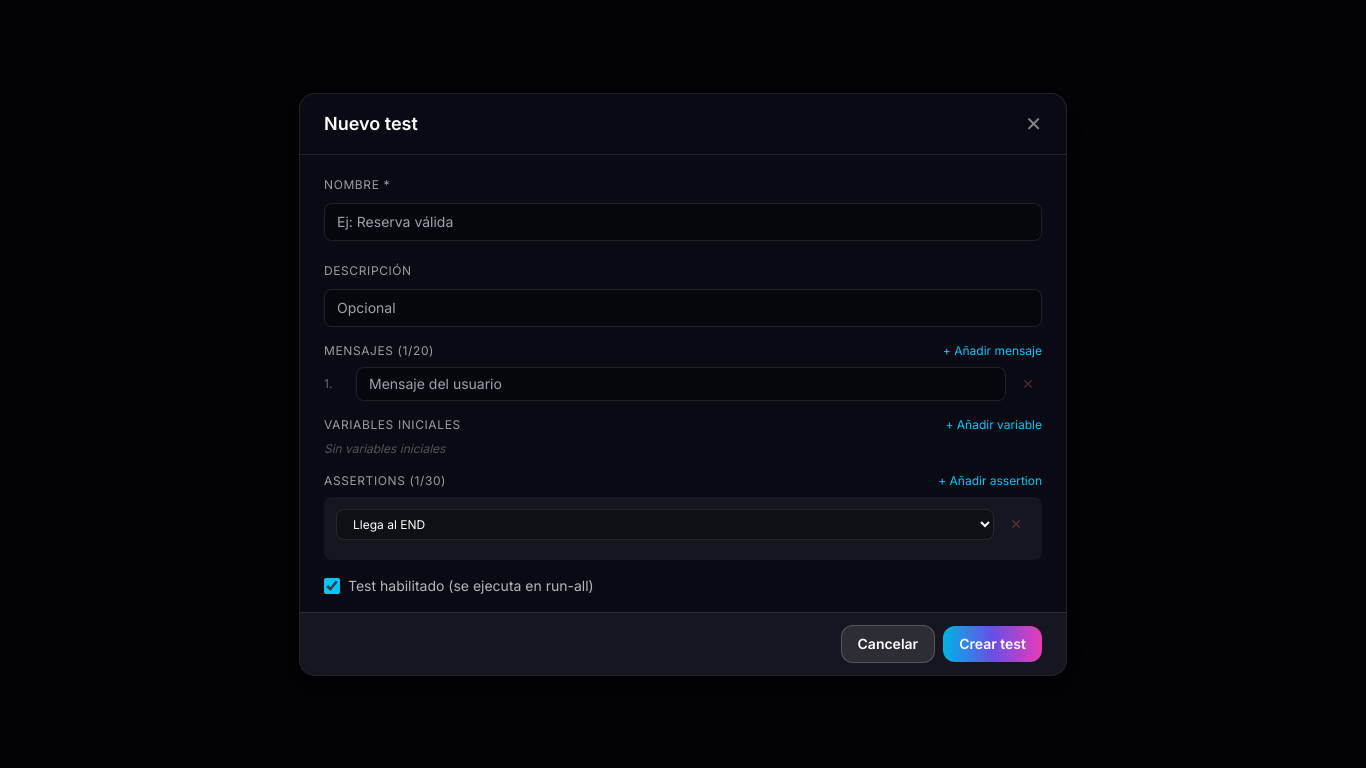
TestEditor › Añadir assertions › añade una assertion al pulsar "+ Añadir assertion"
The image size is (1366, 768).
expect the number of dropdowns is 1: met, box [336, 508, 994, 540]
Click the button "+ Añadir assertion": {"x": 990, "y": 480} [938, 472, 1042, 488]
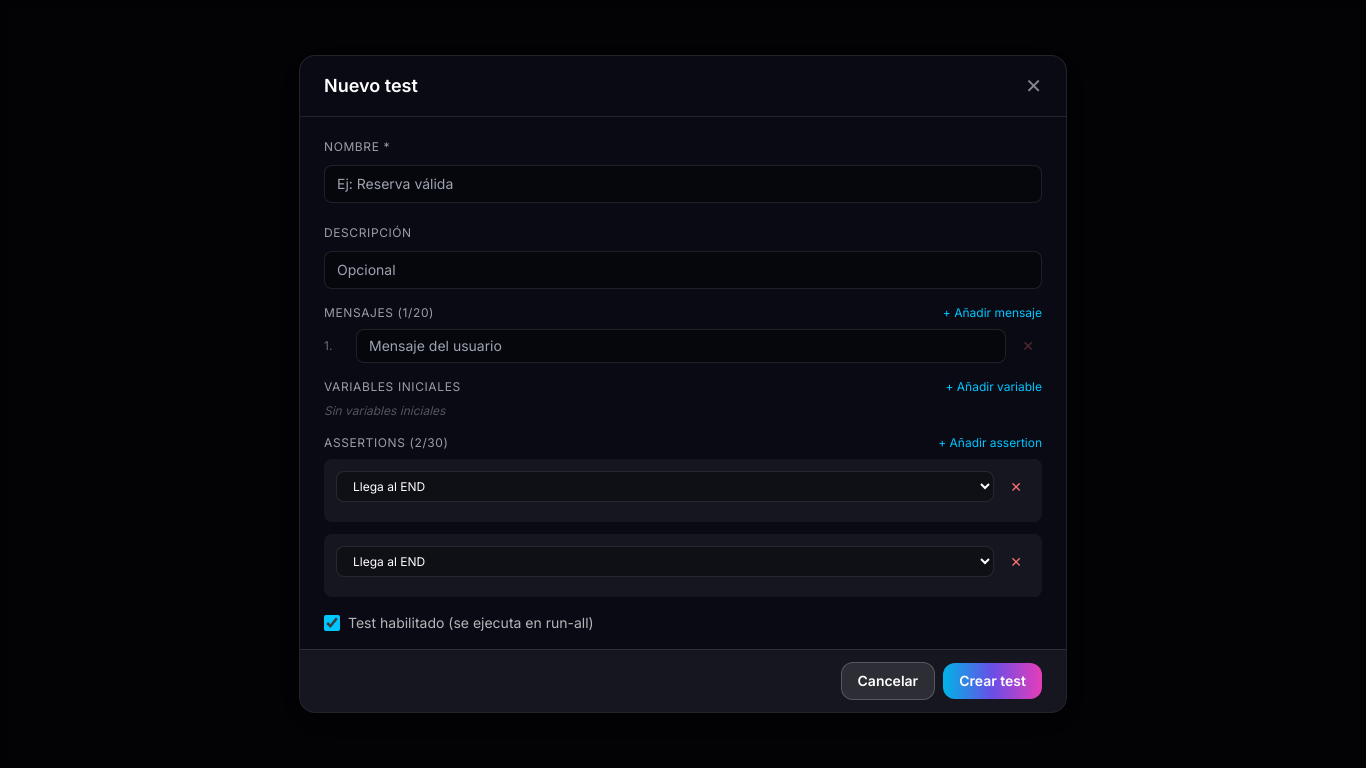
expect the number of dropdowns is 2: met, box [336, 471, 994, 502]; [336, 546, 994, 577]
